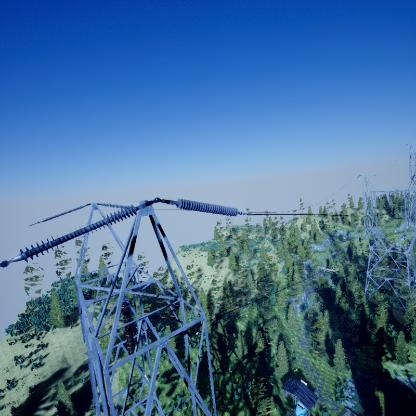insulator: (19, 203, 140, 265), (174, 198, 239, 216)
